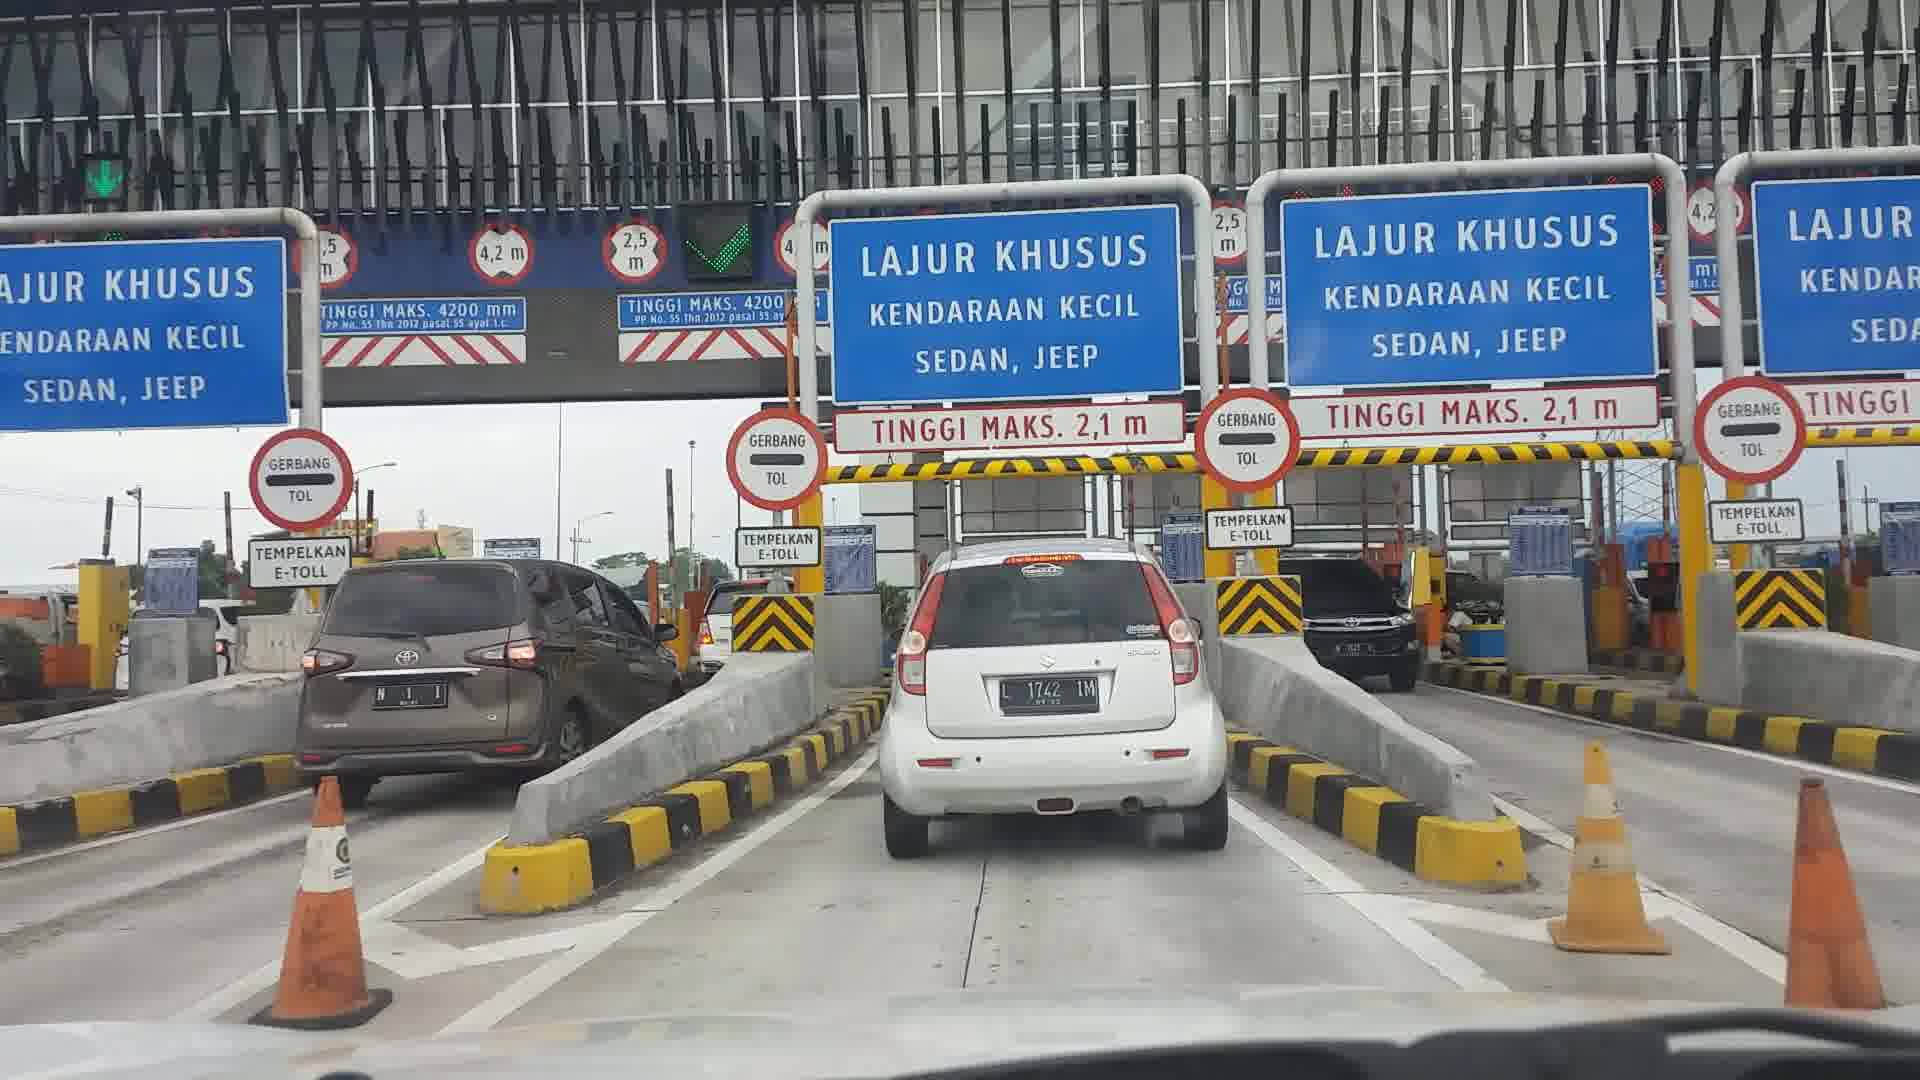plate_positive: (1000, 678, 1100, 709), (375, 680, 447, 709)
